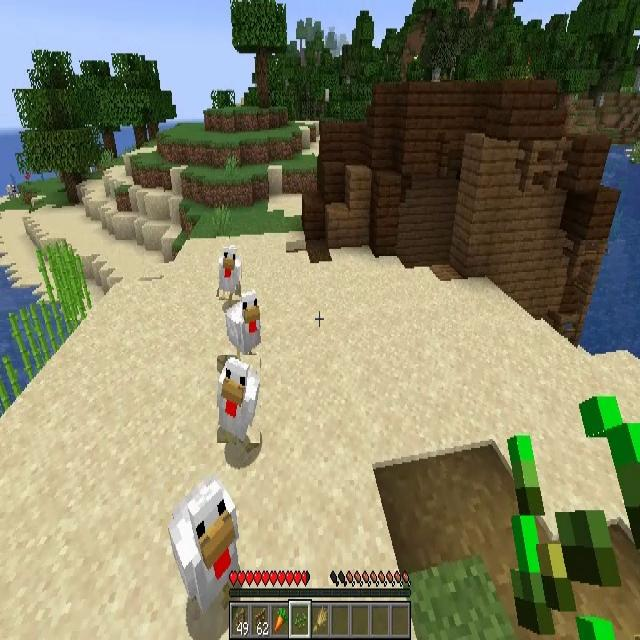duck: (168, 478, 240, 619), (217, 355, 260, 443), (225, 290, 260, 357), (219, 248, 241, 300)
